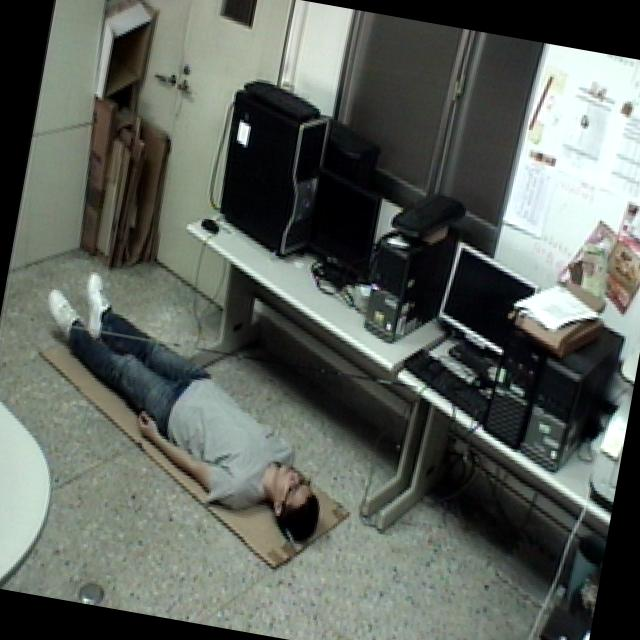lie: (0, 255, 360, 552)
